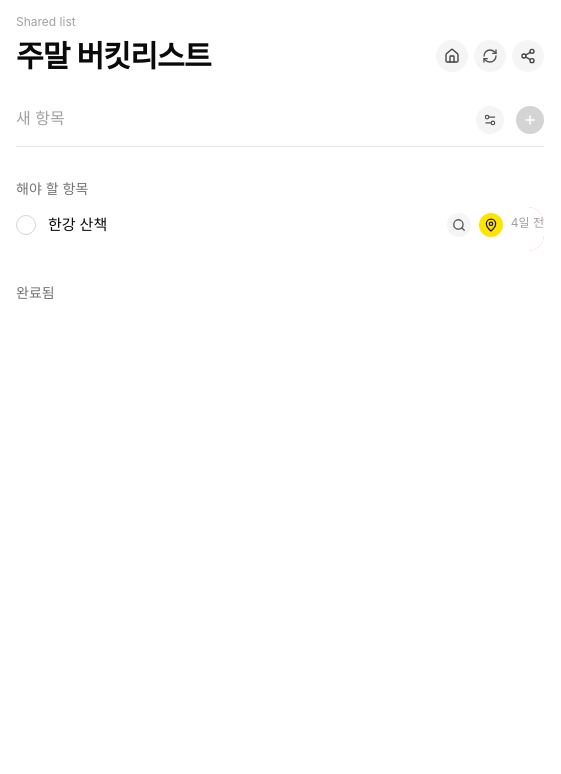
Test: SharedListPage › reveals delete for a pending item after left swipe and deletes only after tapping the revealed action
Press the mouse on the element with test id "swipe-row-item-1" at (280, 229), box [16, 207, 544, 251]
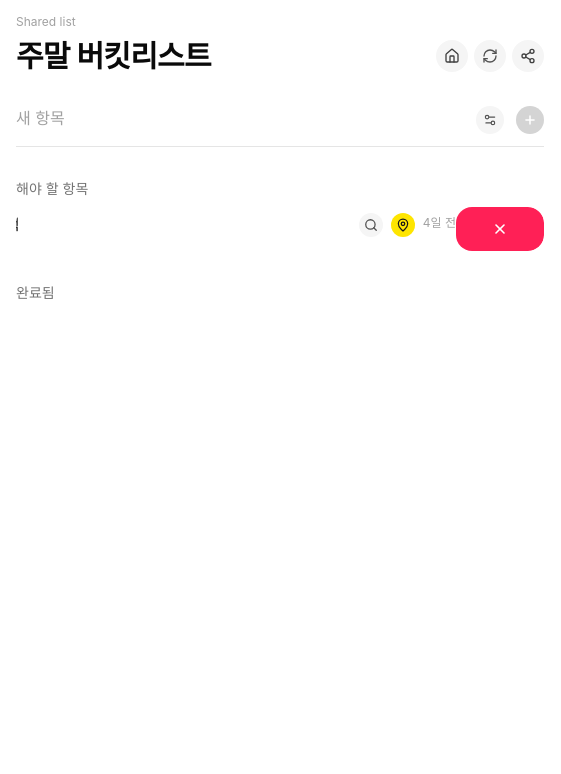
Check: the element with test id "swipe-row-item-1" has attribute data-swipe-open="true", box [16, 207, 544, 251]
Click the button named "한강 산책 삭제" at (500, 229), box [456, 207, 544, 251]
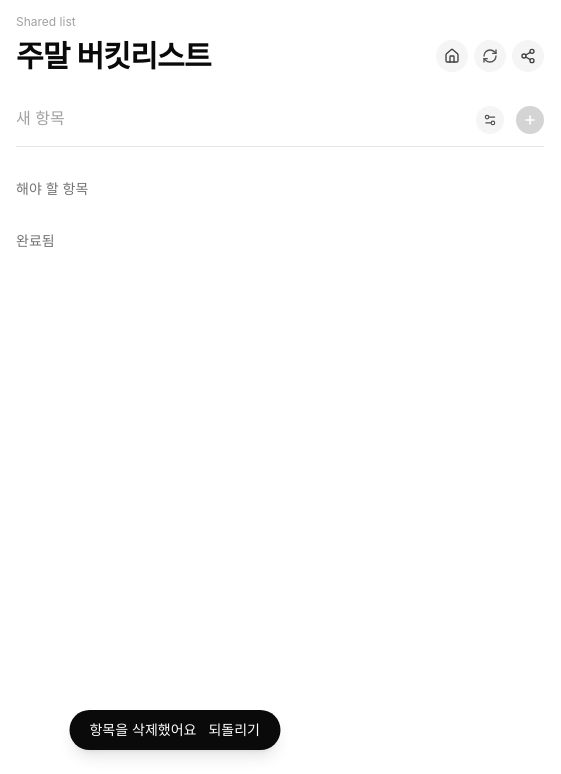
Check: the heading "한강 산책" is gone
Check: the text "항목을 삭제했어요" is shown, box [90, 720, 196, 740]
Click the button "되돌리기" at (234, 730), box [208, 720, 260, 740]
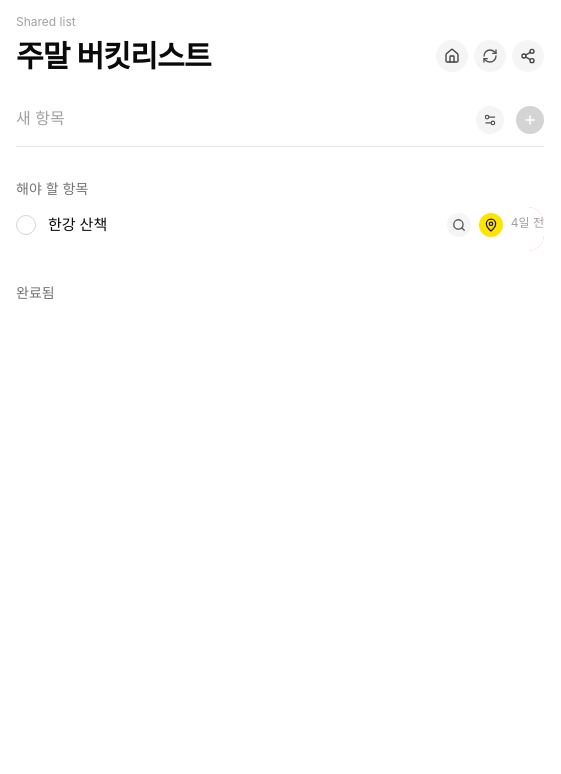
Check: the heading "한강 산책" is shown, box [48, 213, 107, 237]
